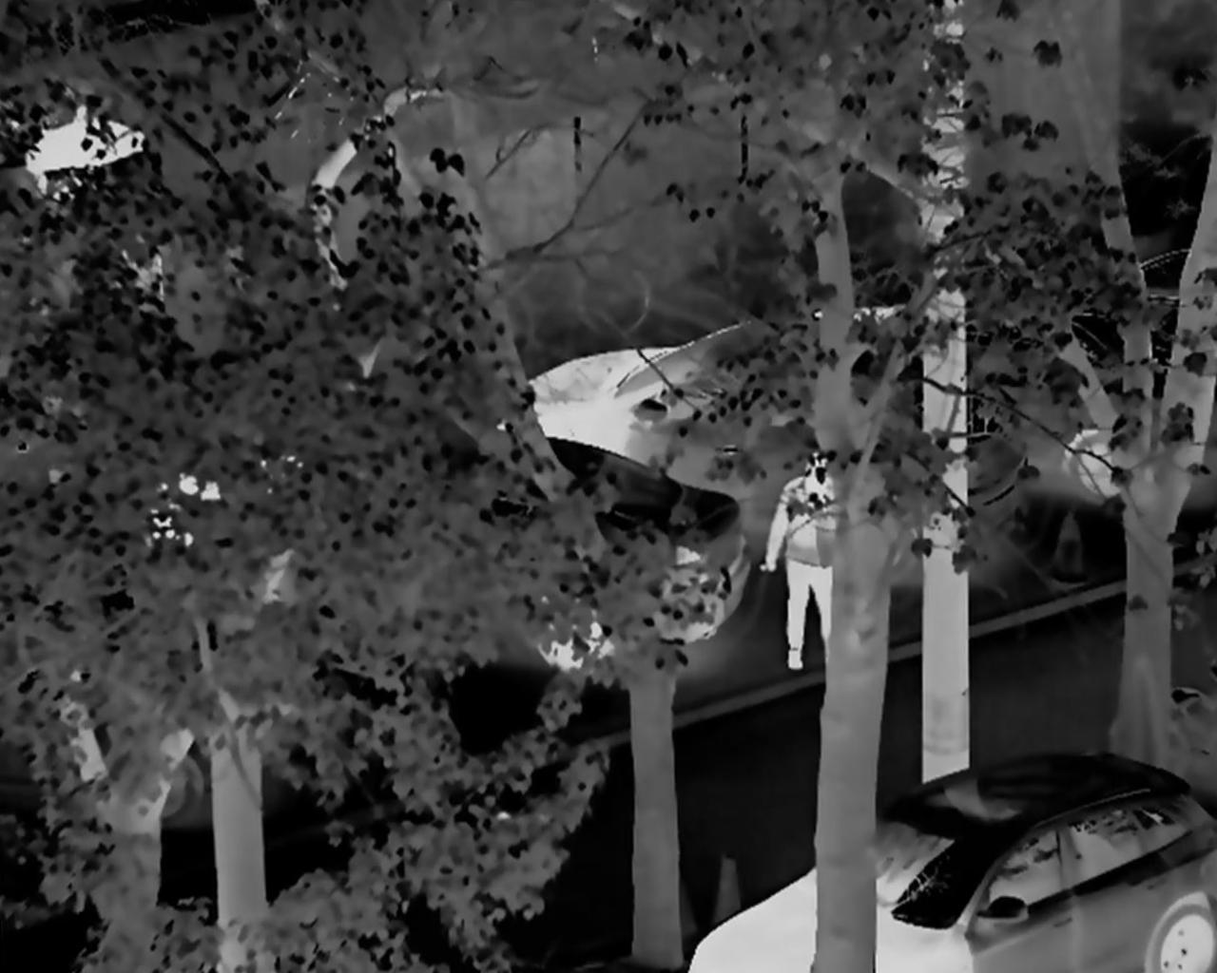person: (753, 445, 858, 674)
